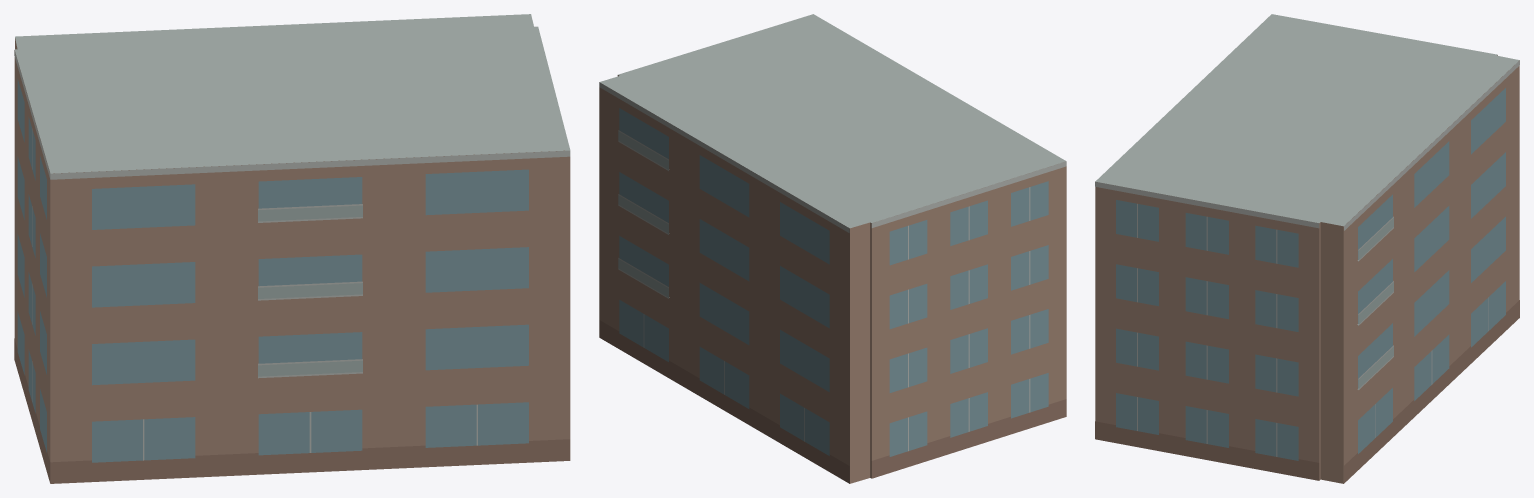
Rendered from survey-upis-32672103.glb.
3 views of the same model, side by side, from view 1: azimuth 30°, elevation 25°; view 2: azimuth 150°, elevation 25°; view 3: azimuth 270°, elevation 25° (orthographic). The views are drawn at different scales.
Visible parts, largest first — view 1: survey-upis-32672103.tmp; view 2: survey-upis-32672103.tmp; view 3: survey-upis-32672103.tmp.
Part boxes in pixels (x1,y1,x2,y2): survey-upis-32672103.tmp: [14, 14, 570, 483]; survey-upis-32672103.tmp: [599, 14, 1066, 483]; survey-upis-32672103.tmp: [1095, 14, 1519, 483].
Size of the model in its own units: 21.57 by 12.2 by 18.23.
